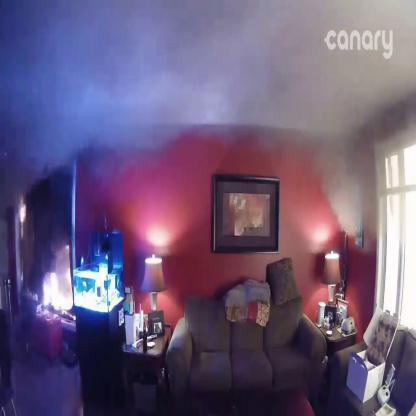smoke: (0, 0, 227, 196)
